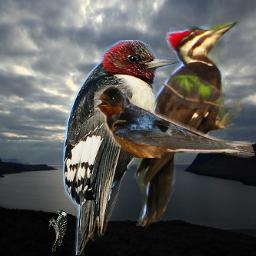Swallow: (94, 85, 255, 158)
Woodpecker: (63, 40, 181, 255), (133, 17, 245, 228), (49, 210, 67, 252)
